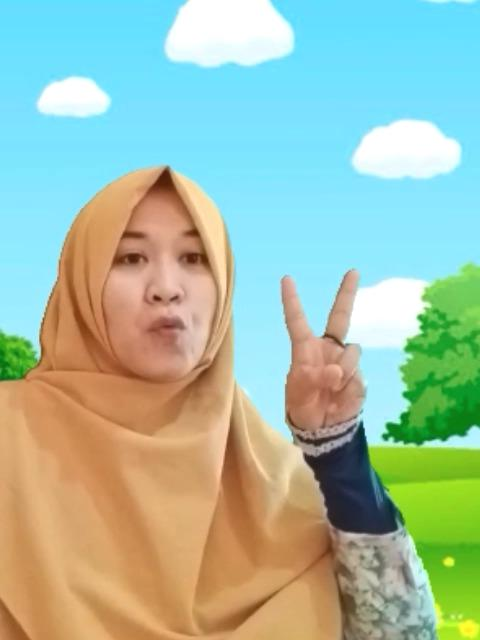V: (258, 260, 374, 436)
